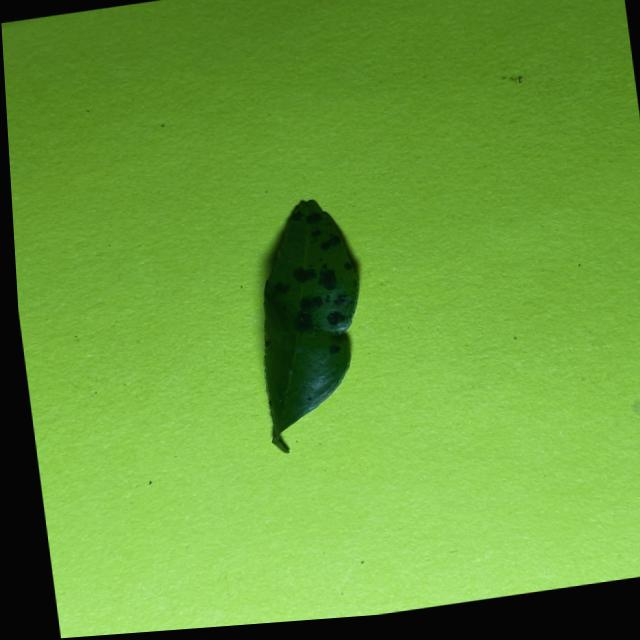sooty_mold: (262, 199, 357, 451)
